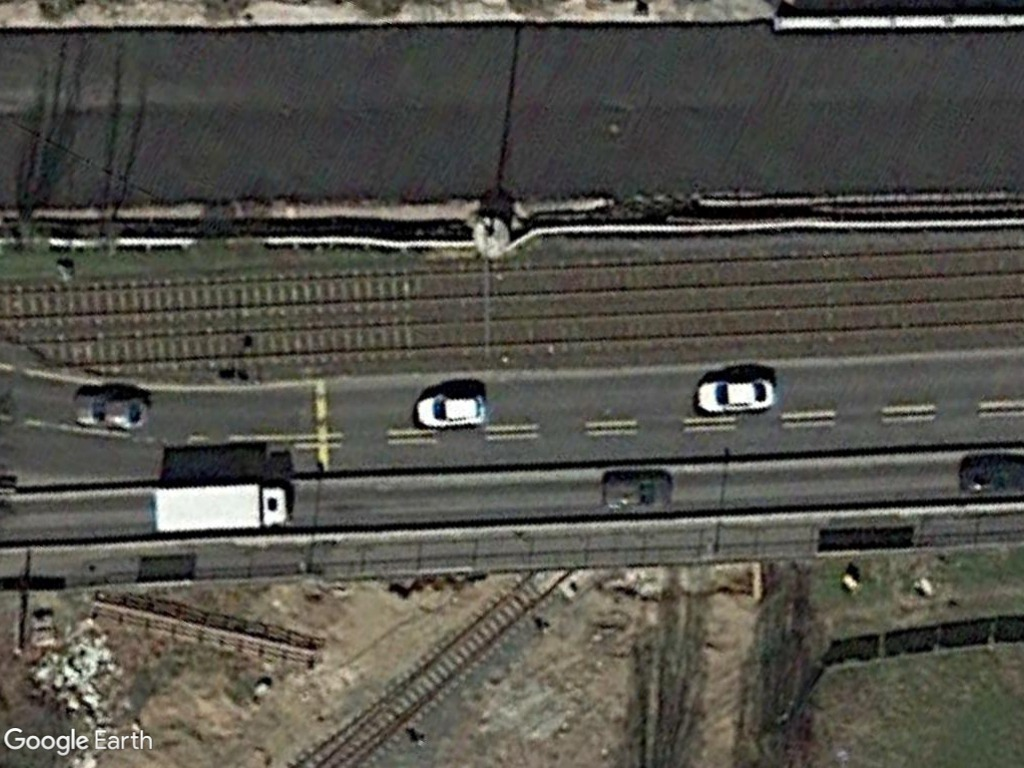car: (687, 375, 777, 416), (410, 390, 488, 434), (69, 392, 153, 432)
truck: (140, 476, 295, 543)
